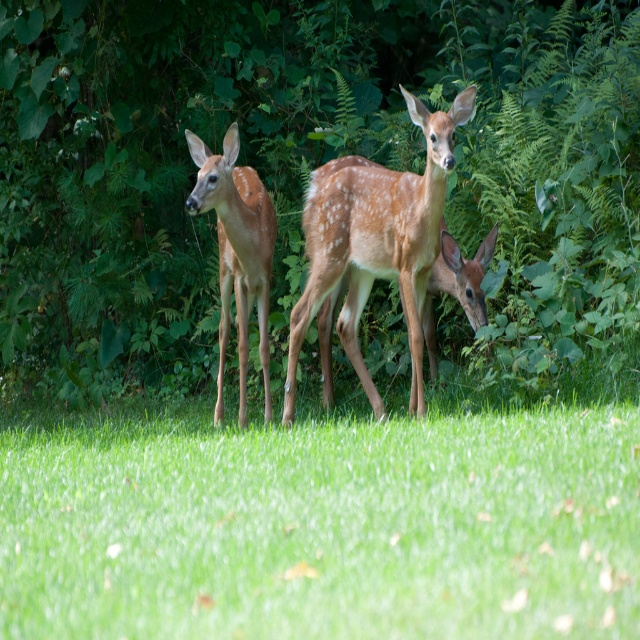Deer: (285, 82, 477, 433), (337, 214, 500, 414), (182, 116, 273, 425)
